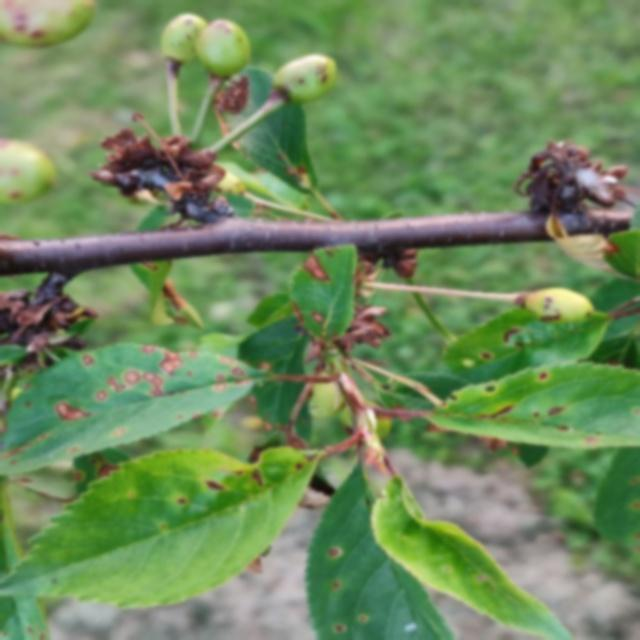shot_hole: (4, 319, 282, 469), (361, 314, 640, 463)
